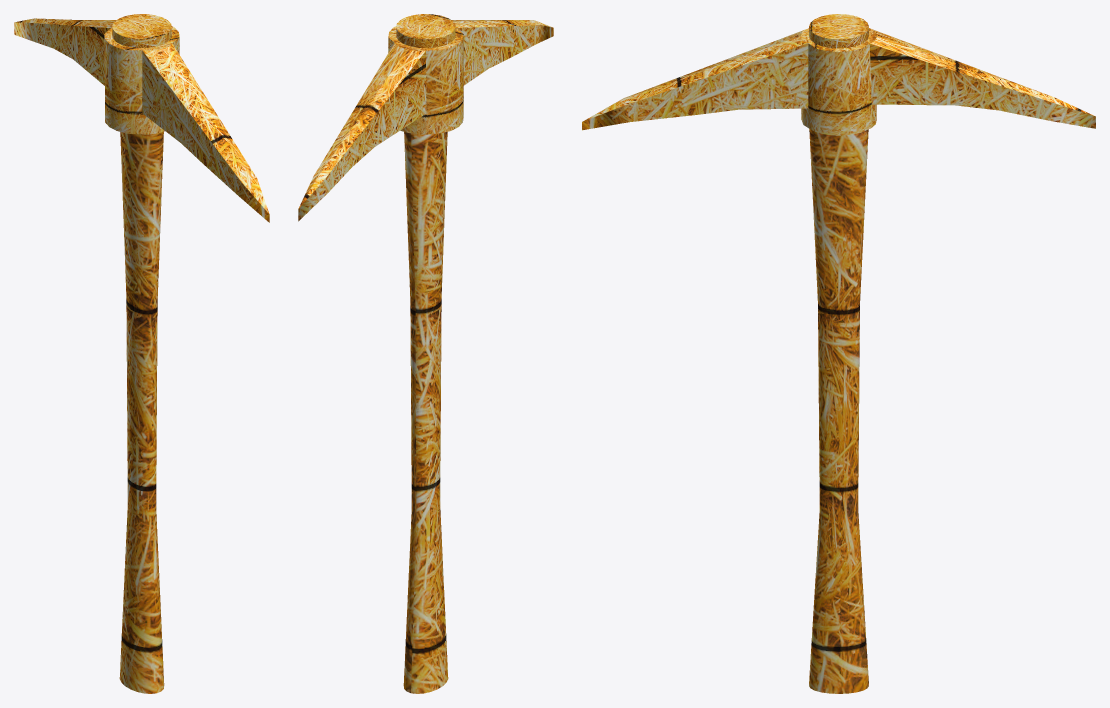
The model's file is PickAxe.fbx.
The picture shows the model from 3 angles, left to right: view 1: azimuth 30°, elevation 25°; view 2: azimuth 150°, elevation 25°; view 3: azimuth 270°, elevation 25°; orthographic projection.
Parts seen in each view (by area): view 1: pCylinder10; view 2: pCylinder10; view 3: pCylinder10.
Boxes of the visible parts, x1=… form: pCylinder10: x1=14, y1=14, x2=269, y2=693; pCylinder10: x1=298, y1=14, x2=553, y2=693; pCylinder10: x1=582, y1=14, x2=1095, y2=693.
Size of the model in its own units: 0.2525 by 2.41 by 1.71.
